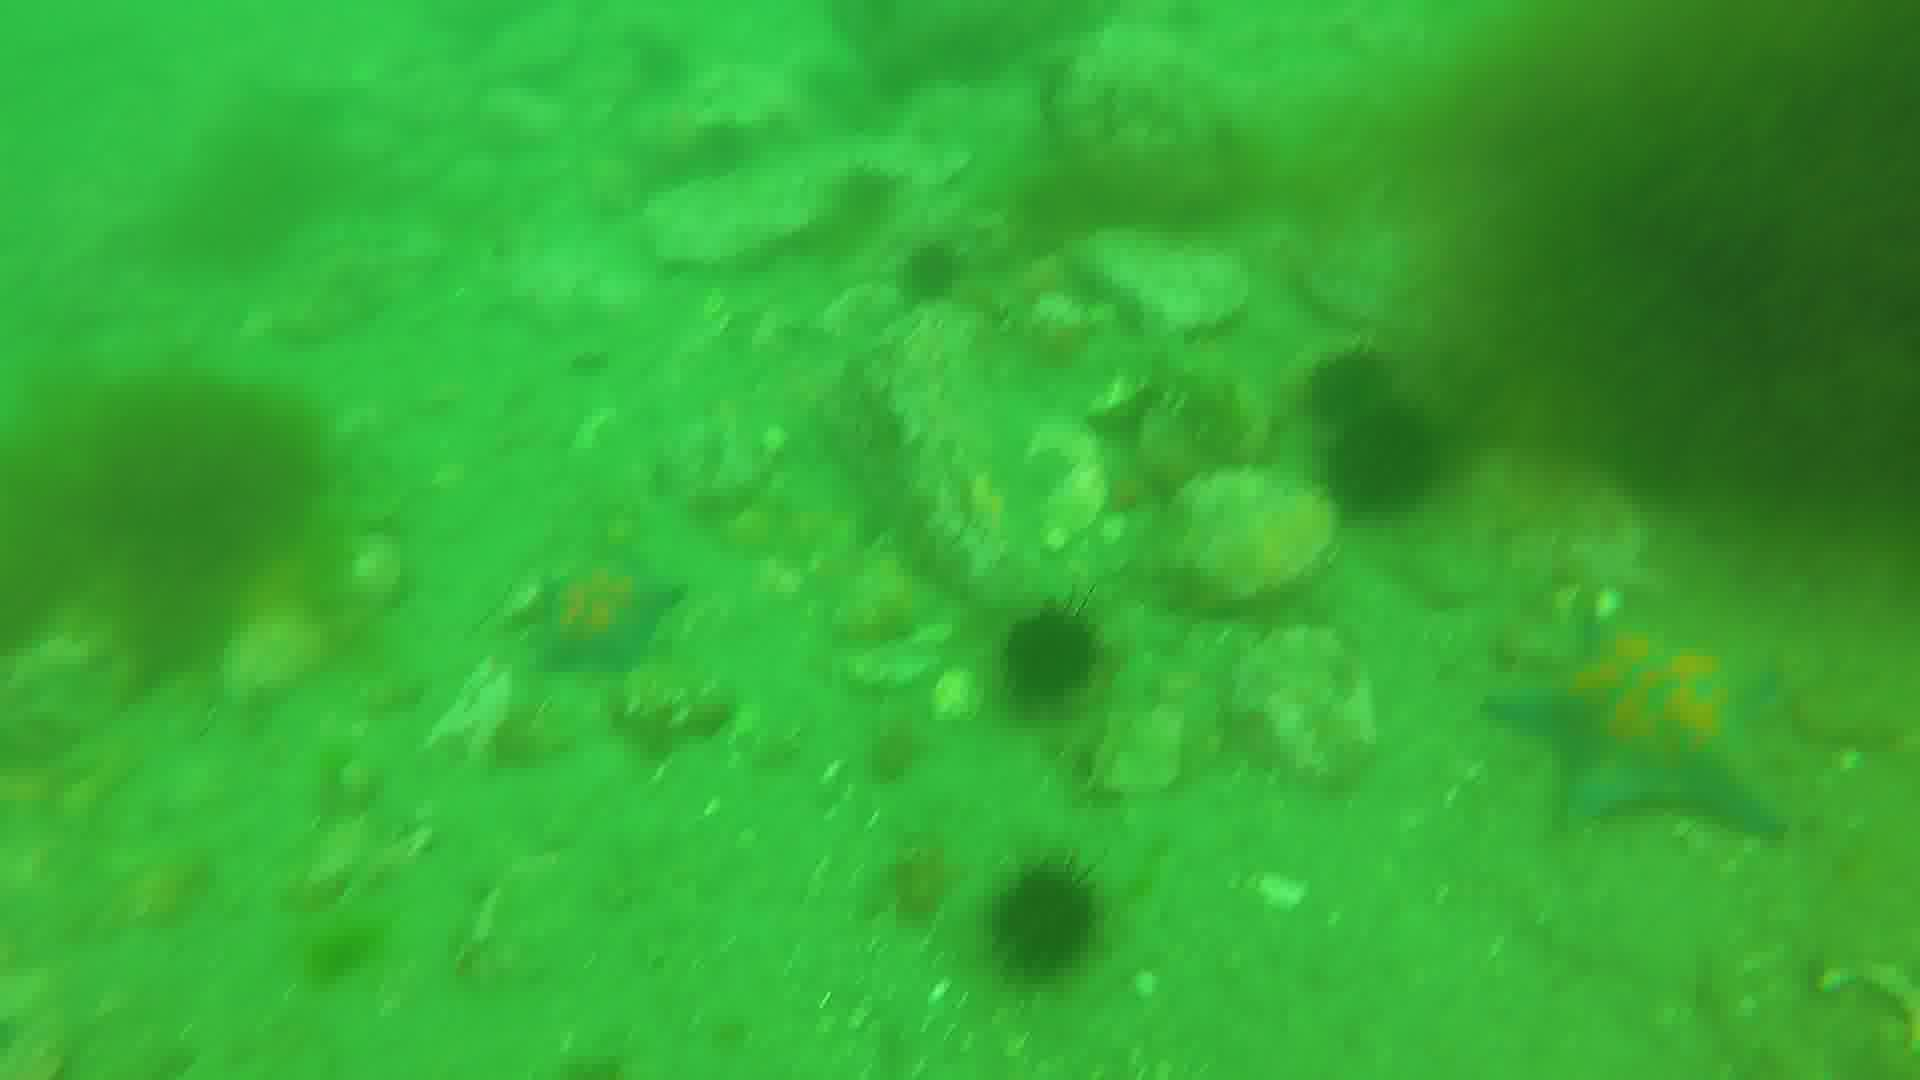echinus: (996, 861, 1102, 982), (1000, 597, 1102, 717), (1335, 407, 1437, 512), (1312, 348, 1406, 417), (902, 243, 978, 311)
holothurian: (1120, 332, 1280, 465)
starfish: (1499, 593, 1801, 839), (512, 539, 688, 679)
